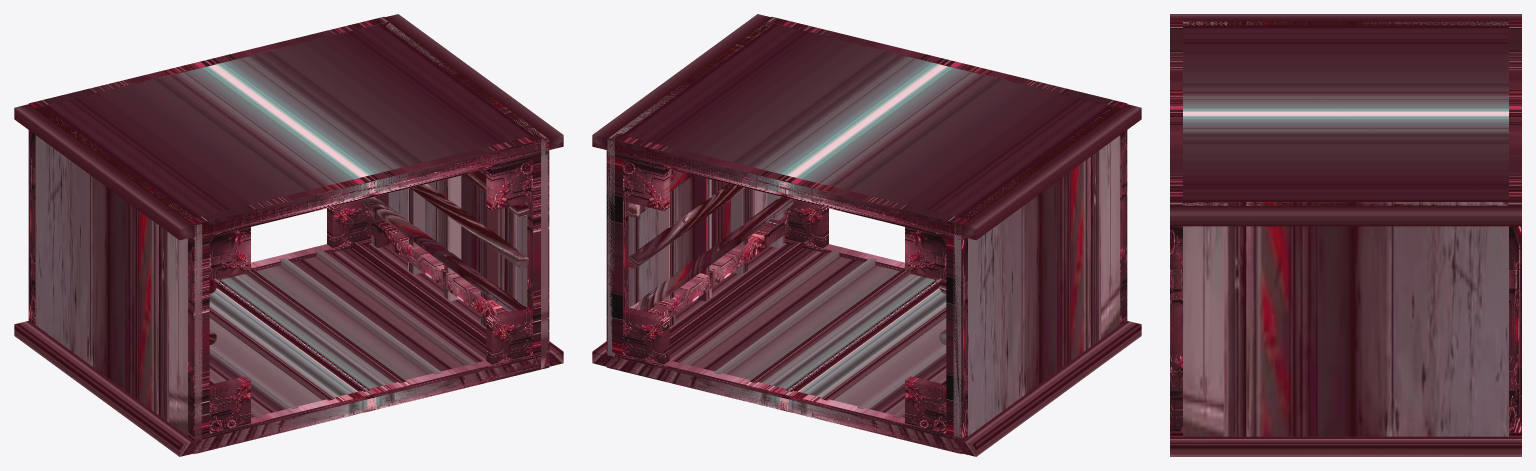
File: hangar_koridor_kristal.glb
3 renders of one model, left to right at view 1: azimuth 30°, elevation 25°; view 2: azimuth 150°, elevation 25°; view 3: azimuth 270°, elevation 25°, orthographic. The views are drawn at different scales.
Visible parts, largest first — view 1: LOD0_koridor; view 2: LOD0_koridor; view 3: LOD0_koridor.
Boxes of the visible parts, x1,y1,x2,y2 form: LOD0_koridor: (14, 14, 563, 456); LOD0_koridor: (592, 14, 1141, 456); LOD0_koridor: (1170, 14, 1521, 456).
Size of the model in its own units: 10.2 by 5.84 by 7.6.
Materials: 1 (1 with a texture image).
